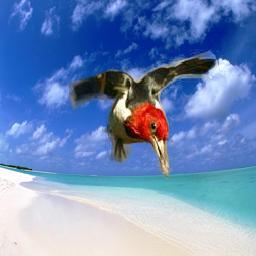Woodpecker: (69, 47, 225, 180)
